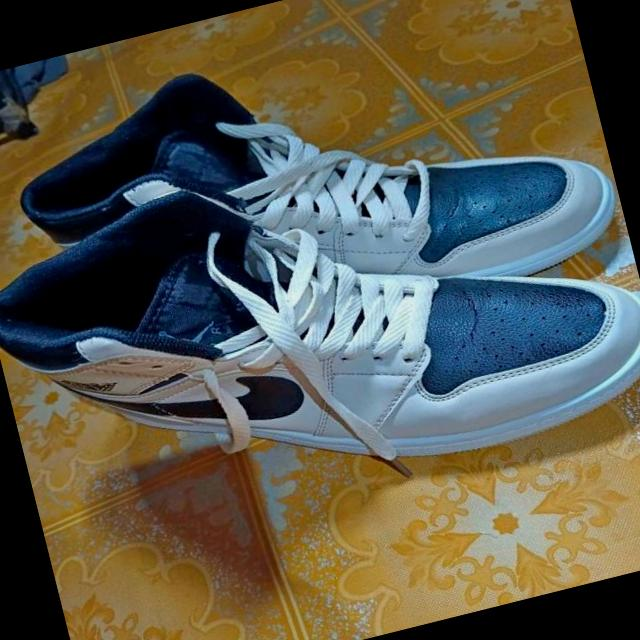nike_fake_jordan: (0, 82, 640, 565), (0, 0, 632, 391)
